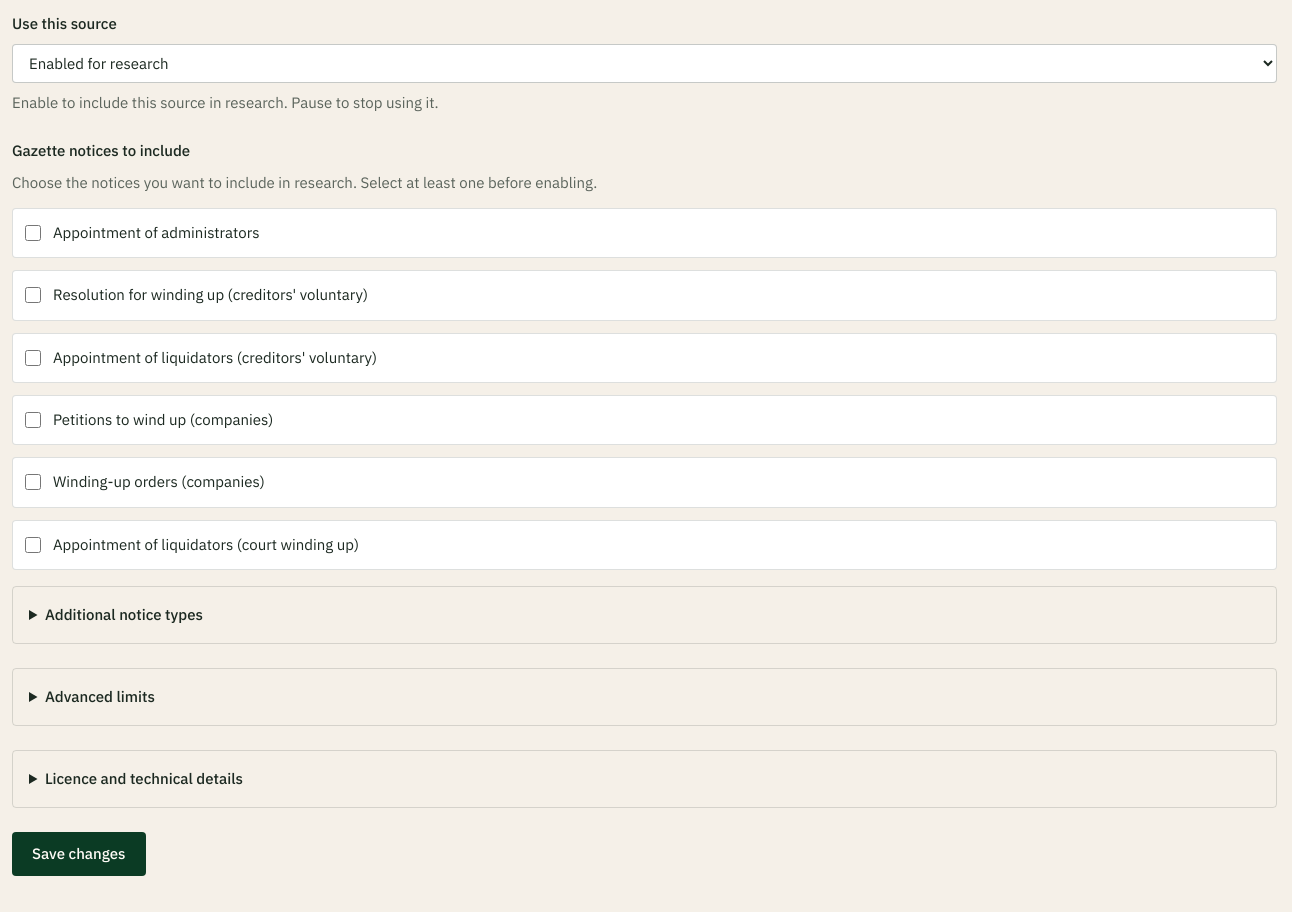
SourceConfiguration › does not preselect Gazette choices and explains an empty enabled selection without requiring code knowledge
Check: the checkbox labelled "Appointment of administrators" is not checked, box [25,225,41,241]
Check: the checkbox labelled "Resolution for winding up (creditors' voluntary)" is not checked, box [25,287,41,303]
Step 1. Click the button "Save changes" → (79, 854), box [12,832,146,876]
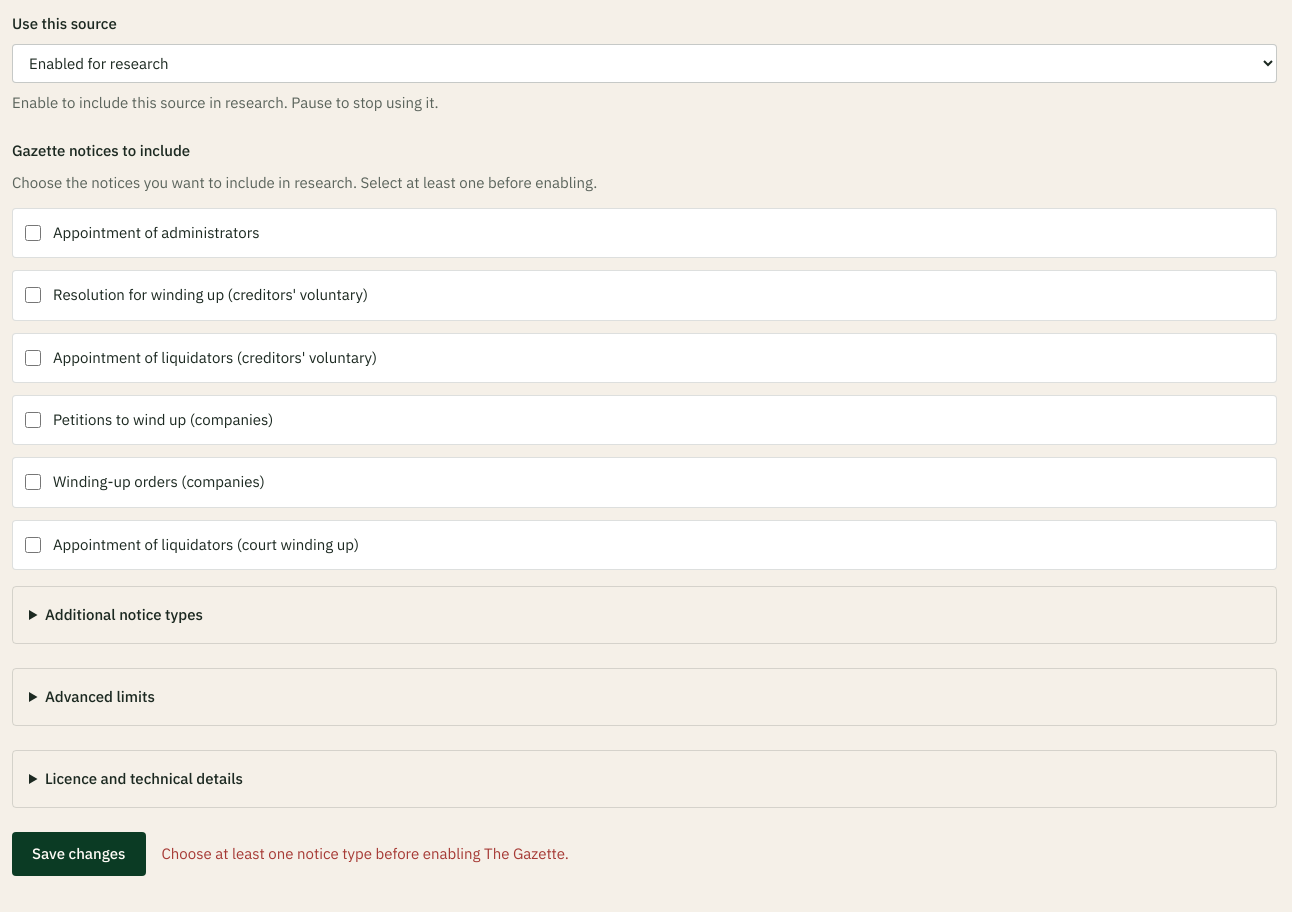
Check: the message shows "Choose at least one notice type", box [162,844,569,863]
